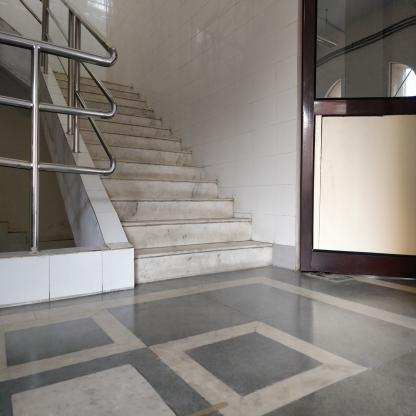stairs: (135, 158, 222, 288)
